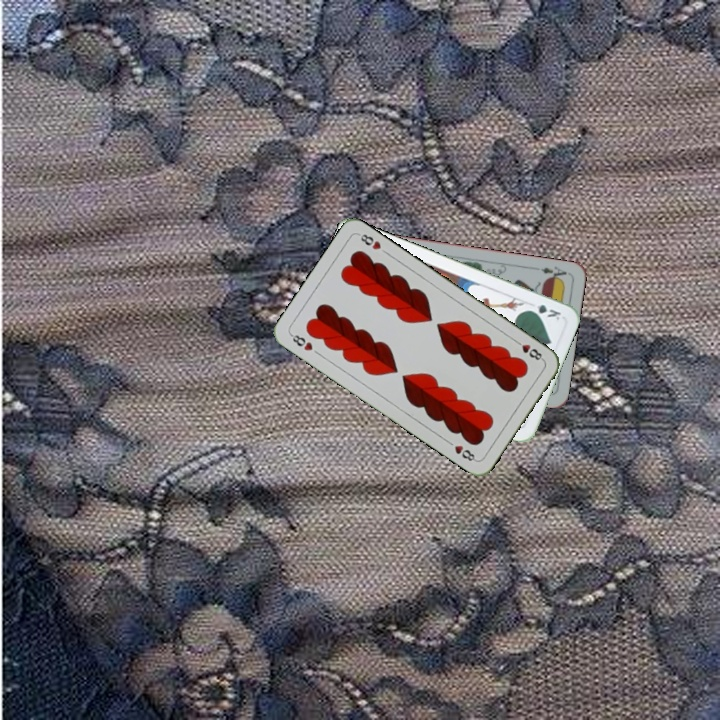EA: (537, 262, 569, 283)
GK: (524, 300, 564, 323)
H8: (510, 336, 546, 363), (286, 330, 315, 354)
